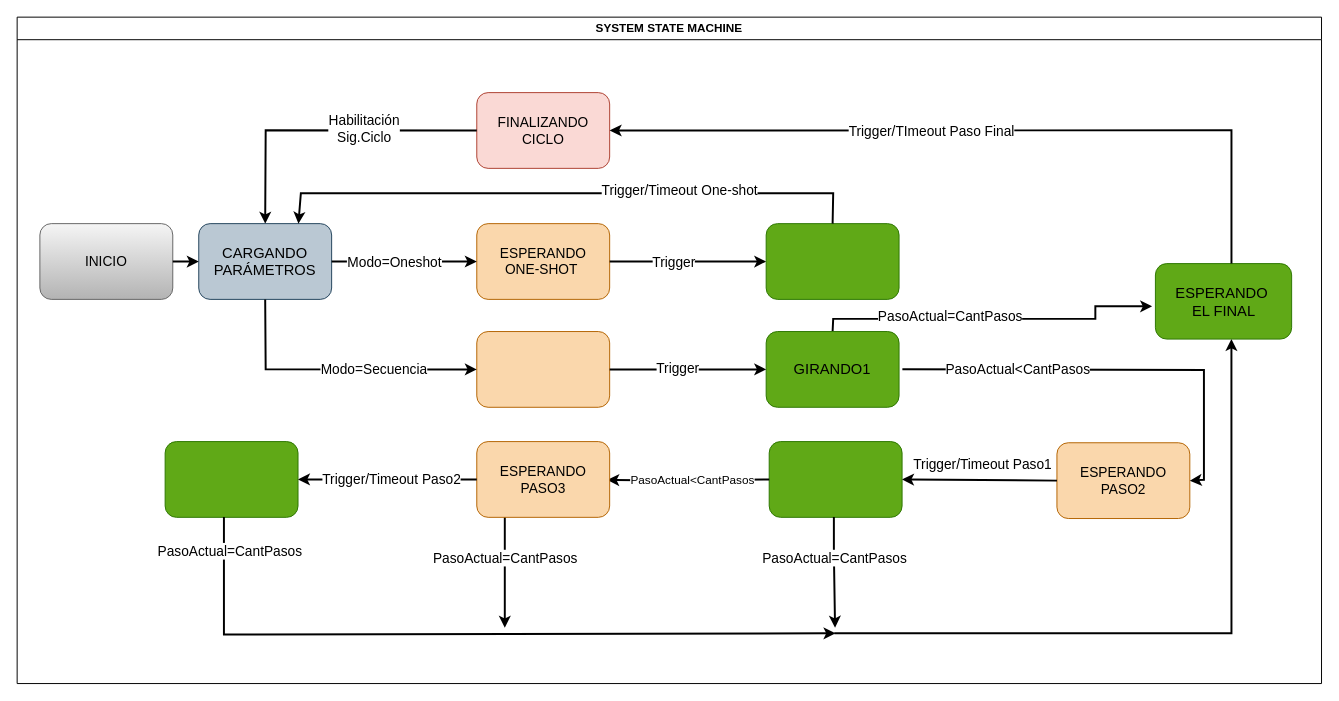
The diagram is 1339 pixels wide and 701 high, and some of its shapes have lost their labels. The centre of each missing label's shape, as x and y in pixels:
"ESPERANDO PASO1" belongs at [543,369].
"GIRA ONE-SHOT" belongs at [832,261].
"GIRANDO2" belongs at [835,479].
"GIRANDO3" belongs at [231,479].
